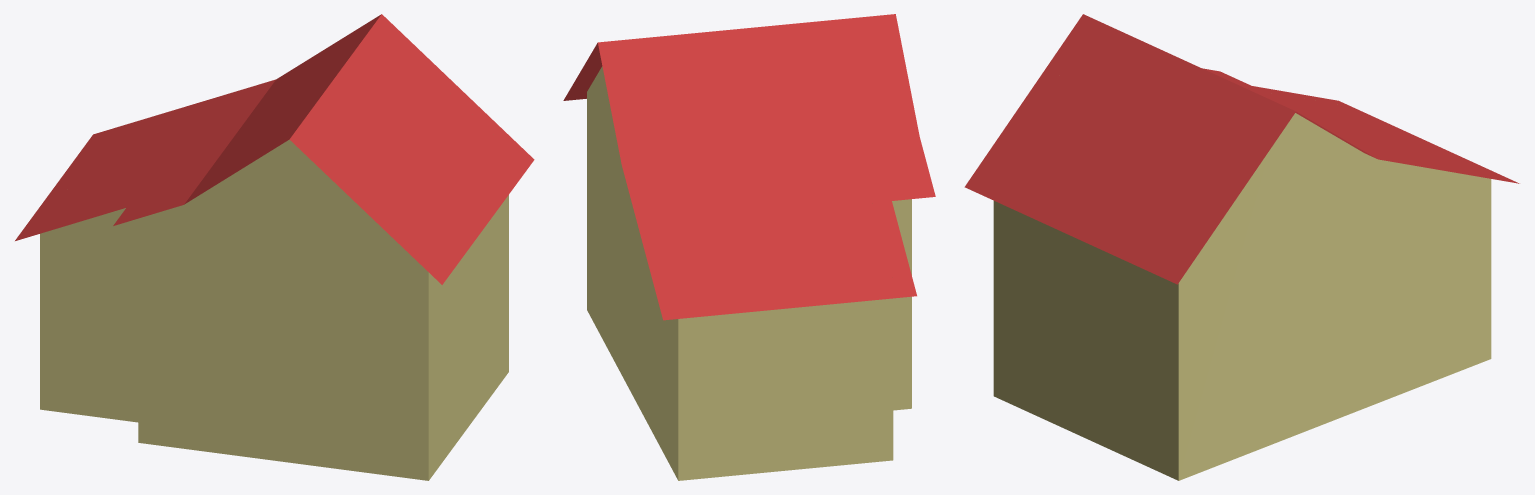
3 renders of one model, left to right at view 1: azimuth 30°, elevation 25°; view 2: azimuth 150°, elevation 25°; view 3: azimuth 270°, elevation 25°, orthographic. The views are drawn at different scales.
Size of the model in its own units: 18.66 by 20.21 by 13.45.
